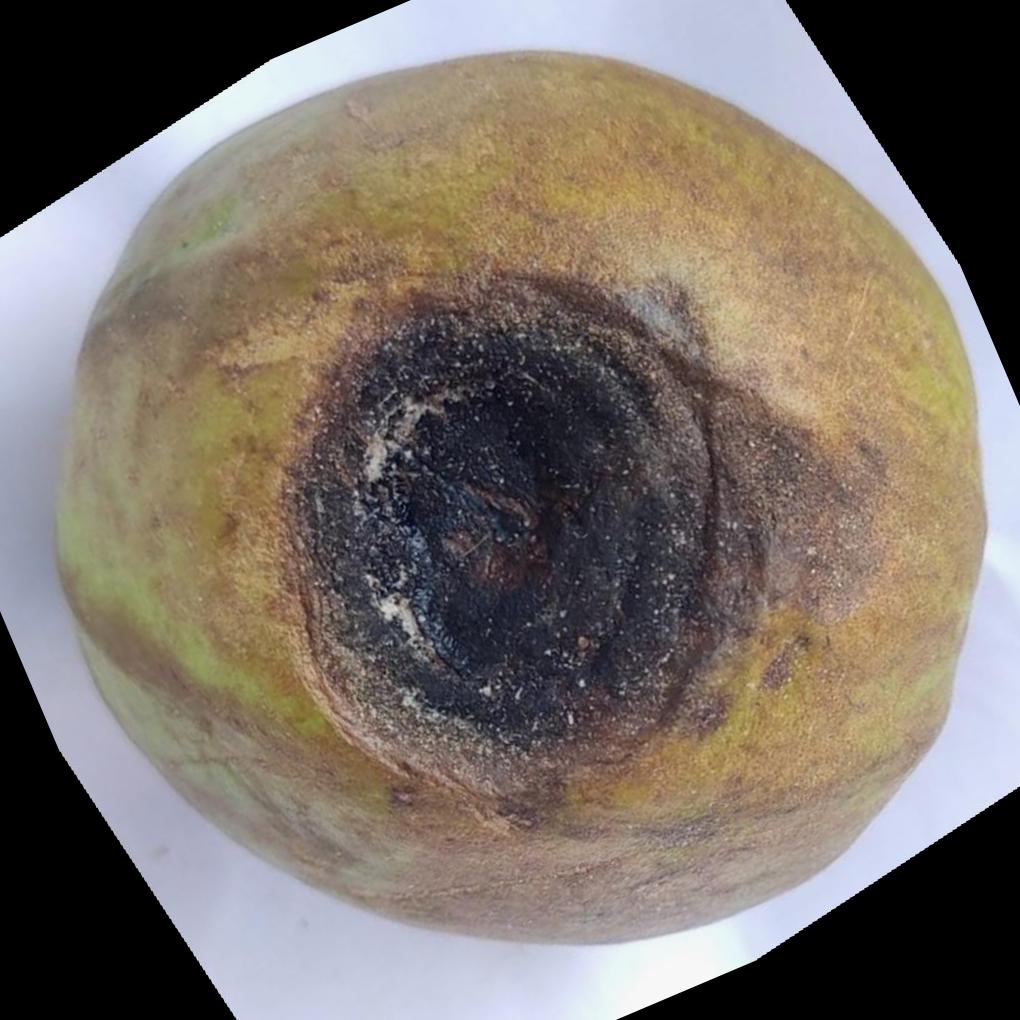FreshOrange: (49, 40, 986, 944)
